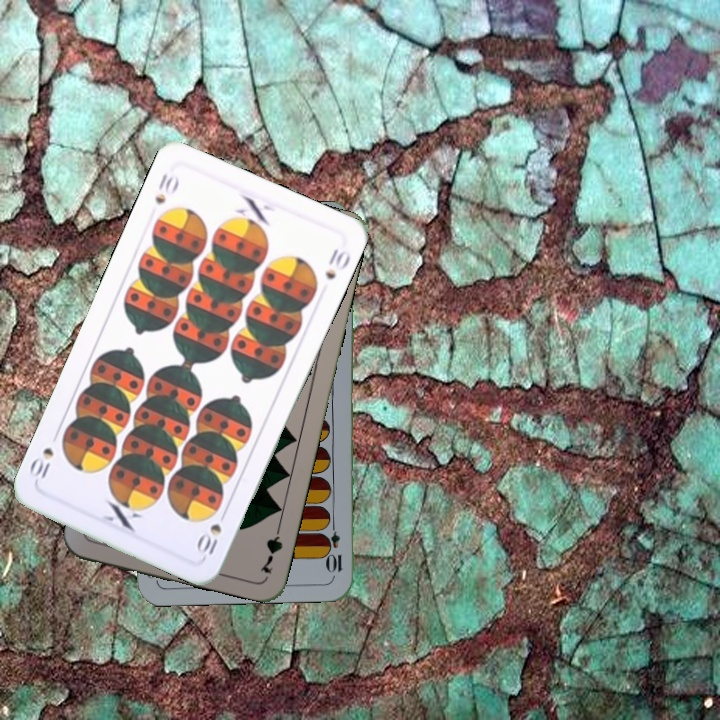E10: (326, 516, 346, 575)
G7: (256, 518, 285, 577)
S10: (193, 505, 229, 561), (150, 168, 182, 207)
